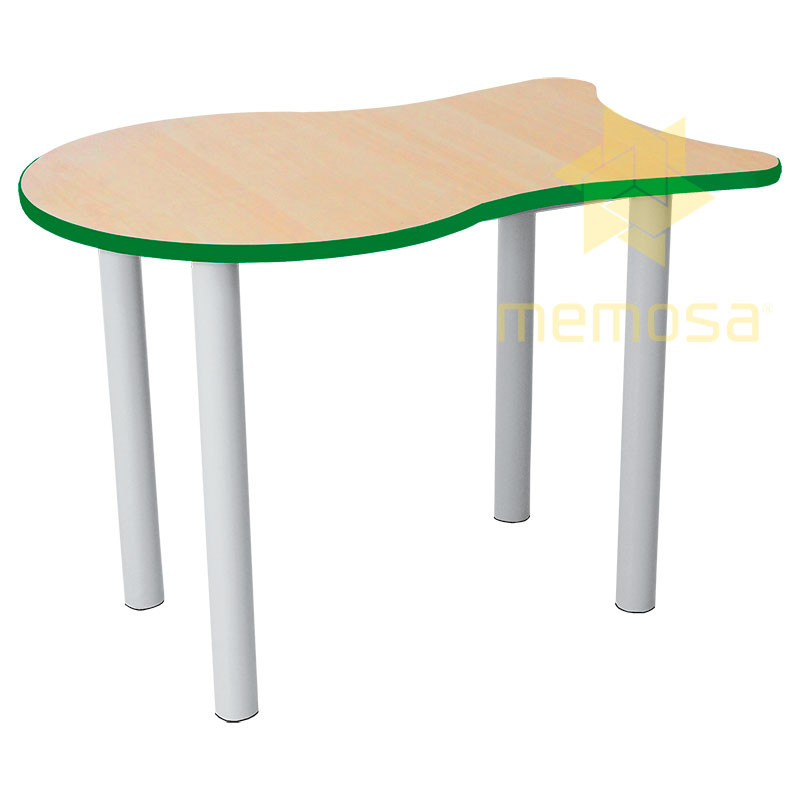m01: (18, 77, 781, 723)
